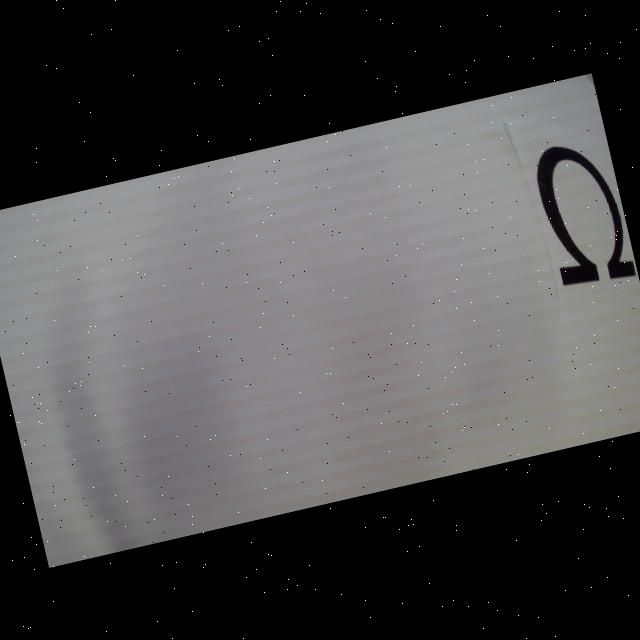OMEGA: (530, 134, 636, 292)
